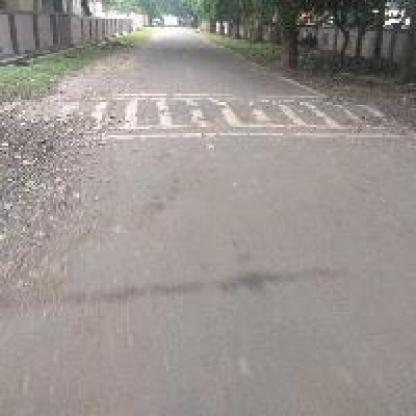Speed Bump: (73, 87, 414, 140)
